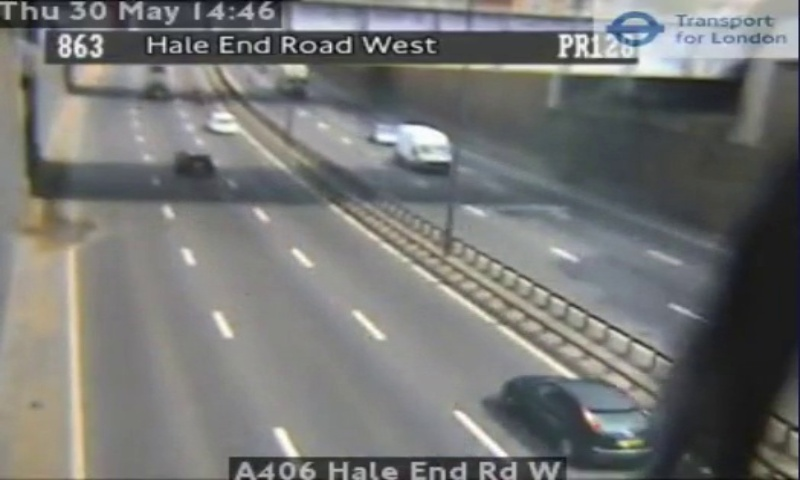car: (505, 376, 651, 462)
